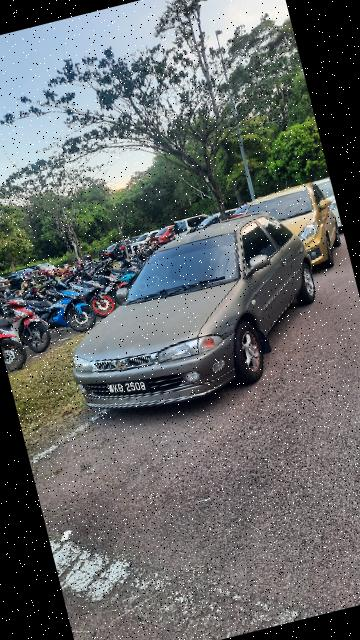License_Plate: (105, 371, 160, 407)
car: (40, 197, 344, 436)
